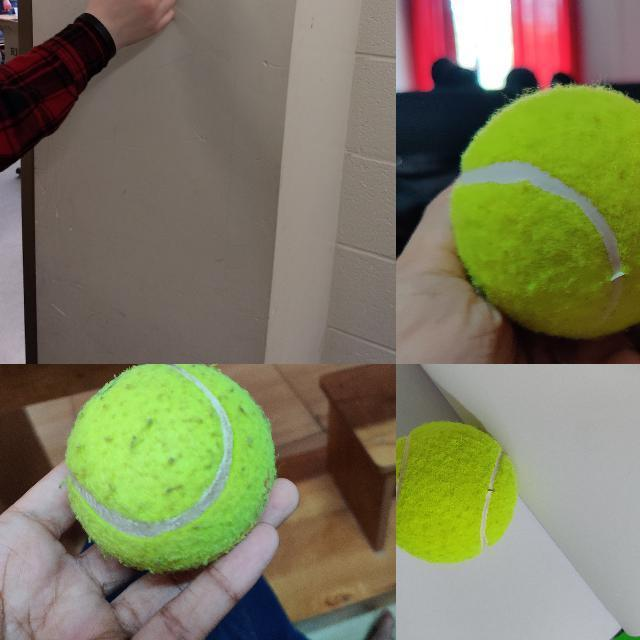tennis-ball: (450, 85, 639, 337), (64, 364, 278, 574), (396, 419, 519, 566)
